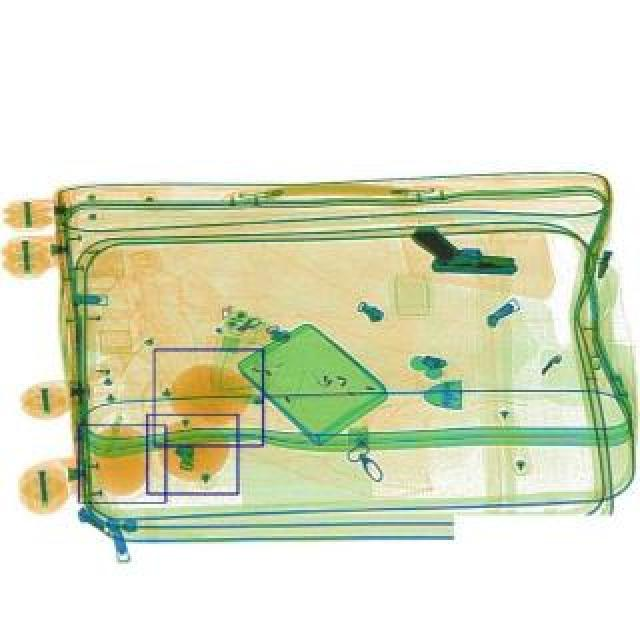gun: (410, 228, 514, 276)
